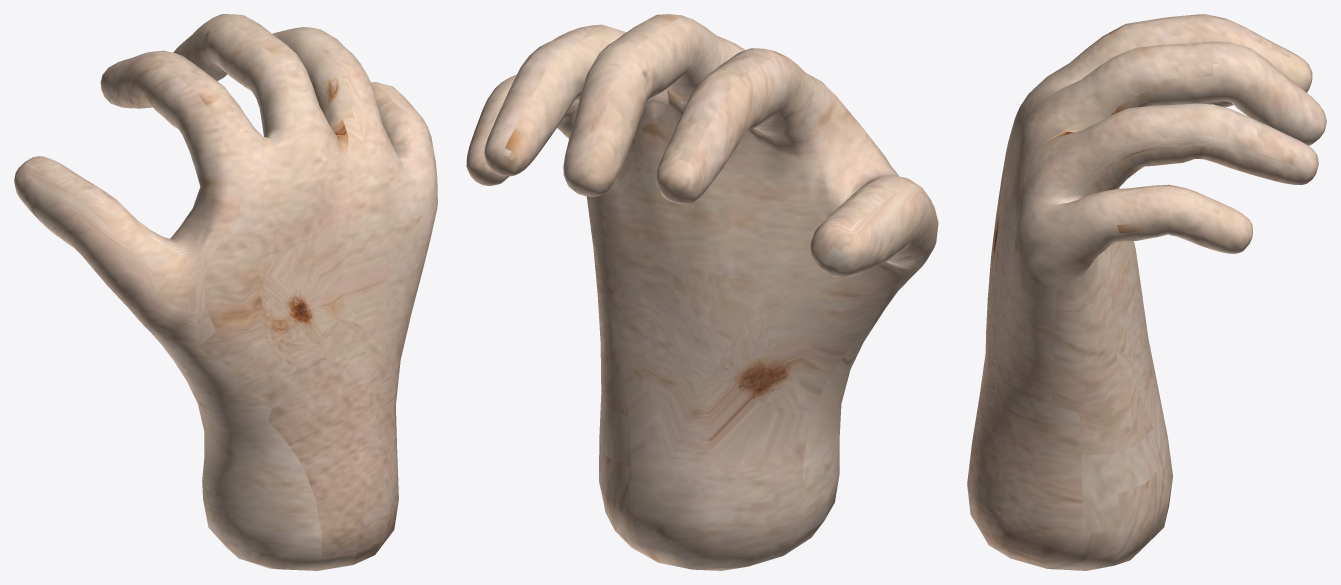
Rendered from hand8.obj.
The picture shows the model from 3 angles, left to right: view 1: azimuth 30°, elevation 25°; view 2: azimuth 150°, elevation 25°; view 3: azimuth 270°, elevation 25°; orthographic projection. The views are drawn at different scales.
Visible parts, largest first — view 1: Cube.001; view 2: Cube.001; view 3: Cube.001.
Boxes of the visible parts, <box> form: Cube.001: <box>14,14,437,570</box>; Cube.001: <box>466,14,938,570</box>; Cube.001: <box>967,14,1326,570</box>.
Bounding box in the file's own units: 3.66 × 4.81 × 3.08.
